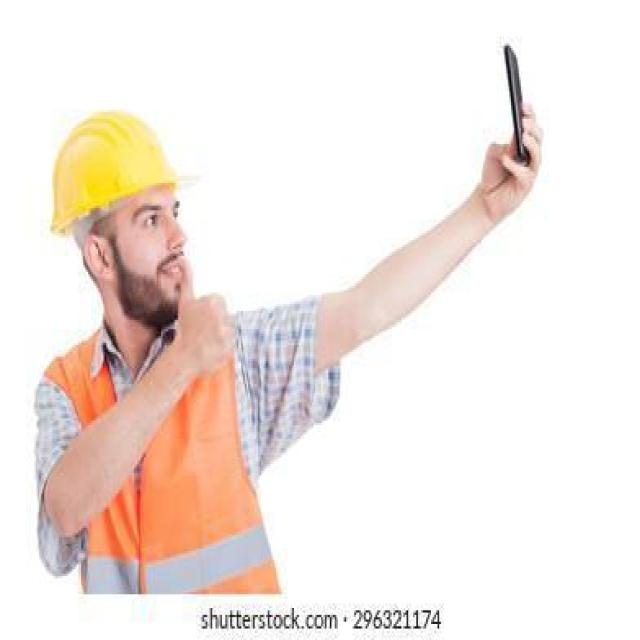helmet: (49, 112, 202, 233)
